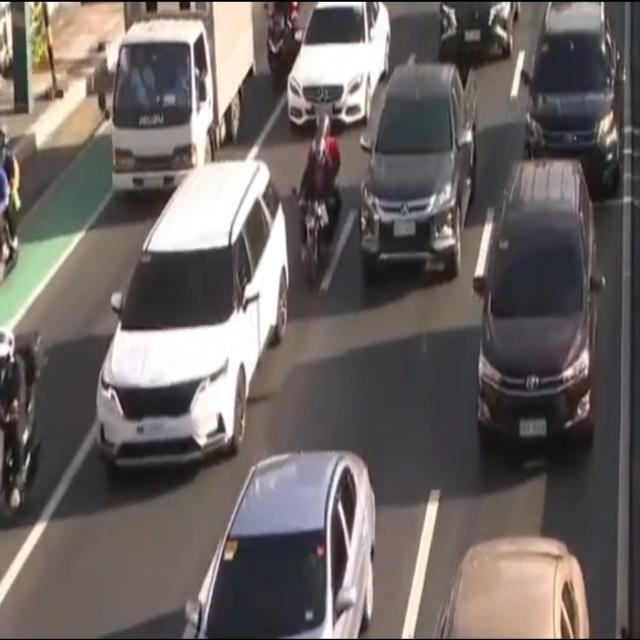Motorcycle: (0, 317, 49, 532), (292, 117, 343, 287), (262, 0, 298, 87)
SUV: (96, 165, 288, 468), (475, 161, 601, 461), (364, 70, 480, 278), (522, 0, 622, 190)
Sedan: (178, 446, 384, 640), (432, 533, 591, 640), (289, 0, 390, 133), (435, 0, 515, 65)
Truck: (108, 0, 252, 194)
